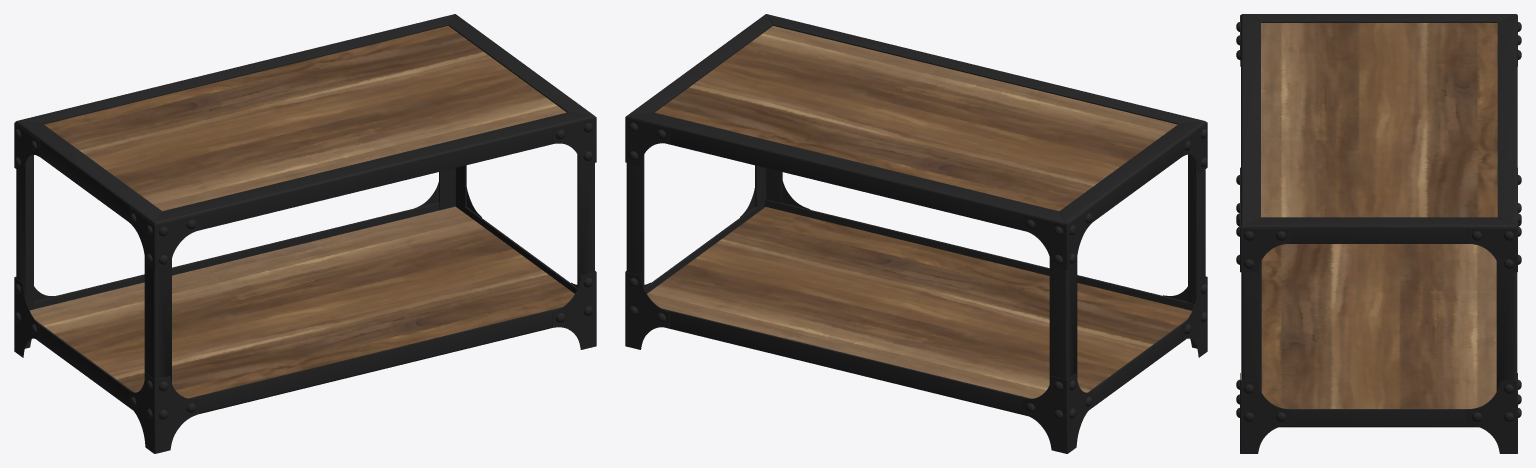
The model's file is Blender.fbx.
3 renders of one model, left to right at view 1: azimuth 30°, elevation 25°; view 2: azimuth 150°, elevation 25°; view 3: azimuth 270°, elevation 25°, orthographic.
Parts seen in each view (by area): view 1: F.4371, F.4355, F.4360, F.4356, F.4357, F.4362, F.4365, F.4370, F.4361, F.4358, F.4364, F.4368 (+7 smaller); view 2: F.4371, F.4356, F.4362, F.4355, F.4357, F.4360, F.4361, F.4374, F.4365, F.4358, F.4359, F.4376 (+7 smaller); view 3: F.4371, F.4358, F.4356, F.4355, F.4363, F.4359, F.4364, F.4357, F.4368, F.4376, F.4367, F.4375.
Part boxes in pixels (x1,y1,x2,y2): F.4371: (30, 25, 574, 398); F.4355: (155, 112, 595, 230); F.4360: (188, 307, 562, 413); F.4356: (17, 14, 454, 124); F.4357: (15, 121, 162, 224); F.4362: (34, 202, 439, 309); F.4365: (144, 257, 171, 382); F.4370: (129, 373, 199, 453); F.4361: (16, 154, 33, 310); F.4358: (448, 14, 595, 117); F.4364: (577, 154, 594, 288); F.4368: (552, 271, 596, 349); F.4371: (647, 26, 1191, 398); F.4356: (626, 112, 1066, 231); F.4362: (661, 308, 1030, 415); F.4355: (766, 14, 1205, 124); F.4357: (1059, 121, 1206, 224); F.4360: (765, 199, 1194, 310); F.4361: (1049, 258, 1077, 383); F.4374: (1022, 373, 1092, 453); F.4365: (1188, 154, 1205, 303); F.4358: (626, 14, 772, 116); F.4359: (626, 155, 644, 288); F.4376: (625, 271, 669, 349); F.4371: (1261, 23, 1497, 408); F.4358: (1241, 217, 1517, 243); F.4356: (1497, 14, 1517, 227); F.4355: (1241, 14, 1260, 227); F.4363: (1279, 409, 1478, 427); F.4359: (1496, 261, 1516, 391); F.4364: (1241, 261, 1261, 391); F.4357: (1243, 14, 1515, 22); F.4368: (1240, 373, 1290, 453); F.4376: (1467, 373, 1517, 453); F.4367: (1240, 206, 1290, 272); F.4375: (1467, 207, 1517, 272).
Size of the model in its own units: 575 by 282 by 320.
